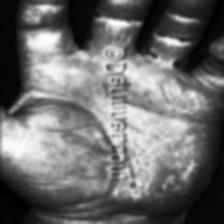Non-Cancerous Skin Condition: (57, 0, 224, 224), (5, 0, 148, 166)
